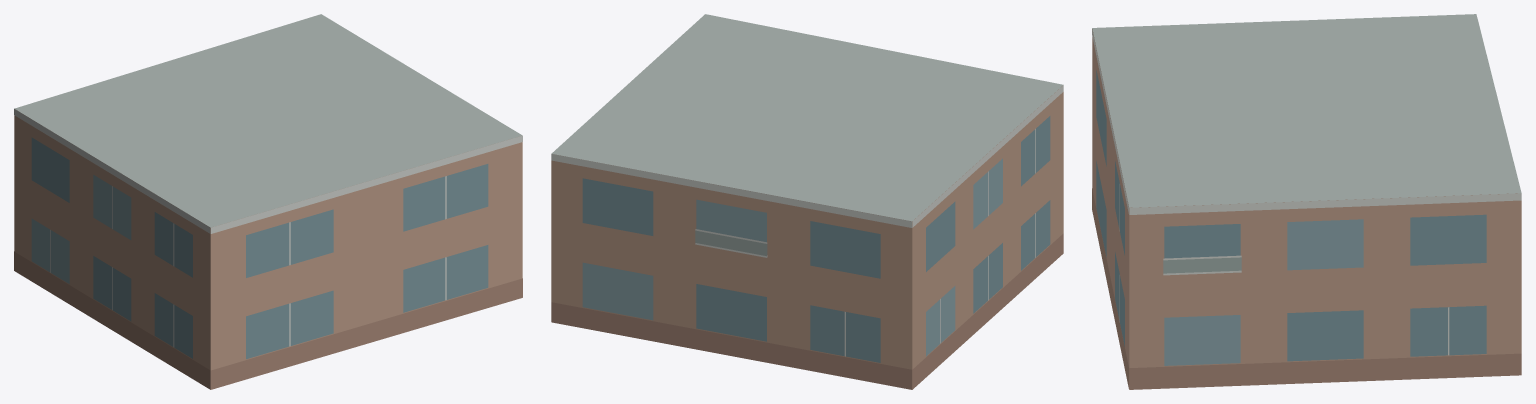
The model's file is survey-upis-32879576.glb.
The picture shows the model from 3 angles, left to right: view 1: azimuth 30°, elevation 25°; view 2: azimuth 150°, elevation 25°; view 3: azimuth 270°, elevation 25°; orthographic projection. The views are drawn at different scales.
Visible parts, largest first — view 1: survey-upis-32879576.tmp; view 2: survey-upis-32879576.tmp; view 3: survey-upis-32879576.tmp.
Boxes of the visible parts, <box> form: survey-upis-32879576.tmp: <box>14,14,522,389</box>; survey-upis-32879576.tmp: <box>551,14,1063,389</box>; survey-upis-32879576.tmp: <box>1092,14,1521,389</box>.
Bounding box in the file's own units: 13.94 × 6.1 × 13.05.
